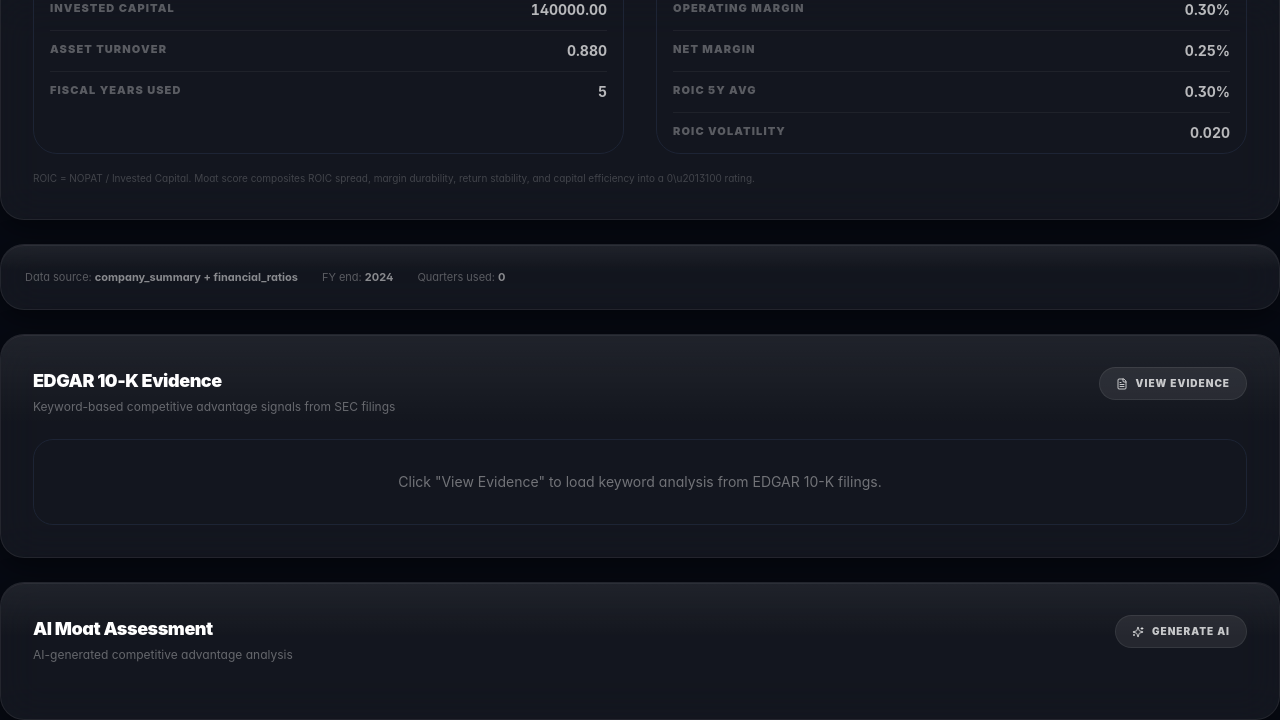
Test: MoatPanel — FT-01 to FT-15 › FT-09: shows evidence when loaded via button click
The image size is (1280, 720).
(page scrolled)
Click the button "View Evidence" at (1173, 384), box [1098,367,1247,400]
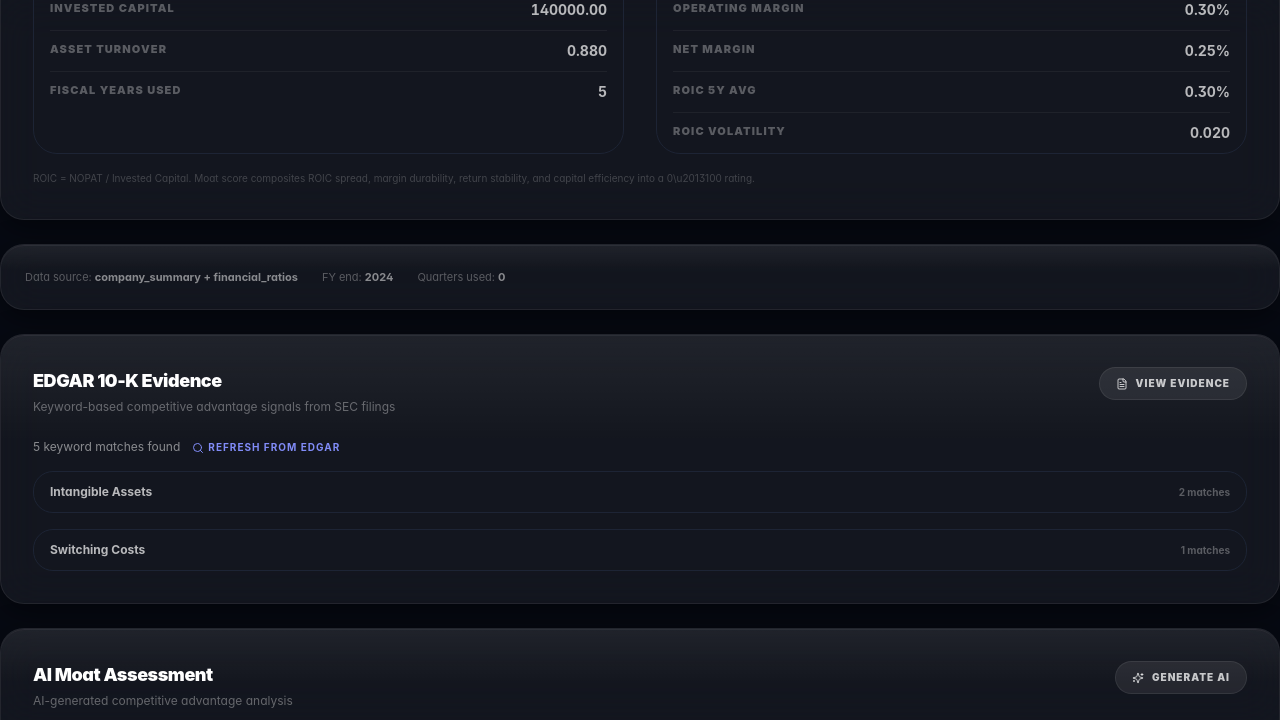
Now the text "5 keyword matches found" is shown, box [33,439,180,455]
